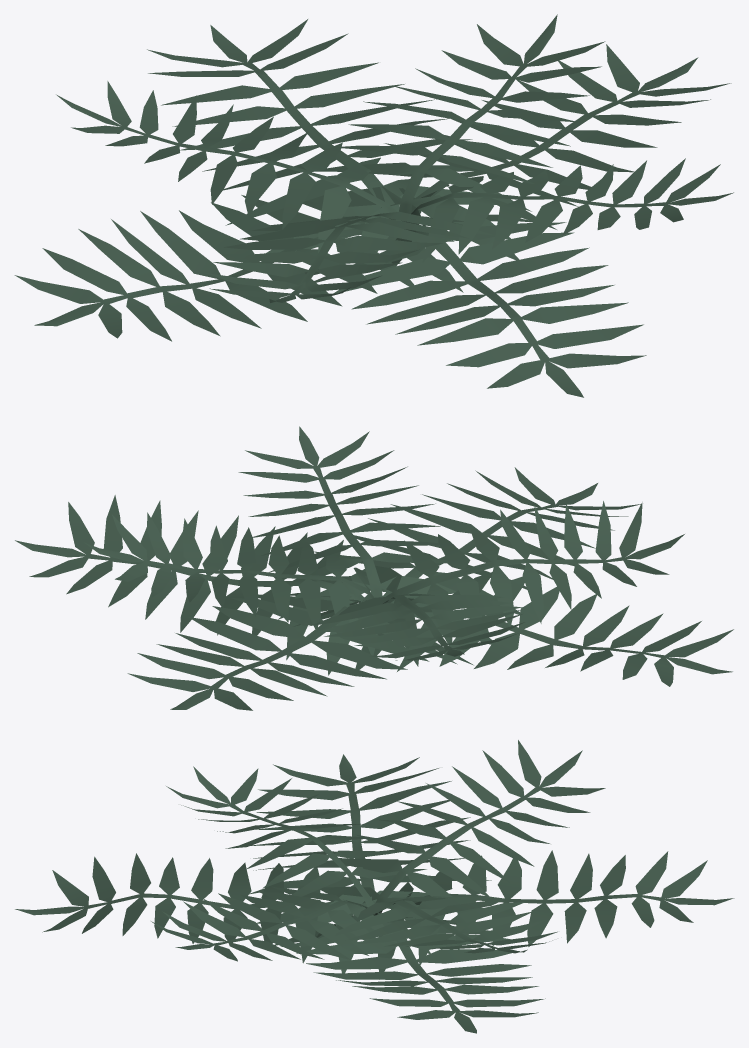
The model's file is plante3_v2.fbx.
The picture shows the model from 3 angles, top to bottom: view 1: azimuth 30°, elevation 25°; view 2: azimuth 150°, elevation 25°; view 3: azimuth 270°, elevation 25°; orthographic projection. The views are drawn at different scales.
Visible parts, largest first — view 1: Plane.016; view 2: Plane.016; view 3: Plane.016.
Boxes of the visible parts, x1,y1,x2,y2 form: Plane.016: (14,14,733,397); Plane.016: (15,426,733,710); Plane.016: (15,740,734,1033).
Size of the model in its own units: 3682 by 548 by 3704.
